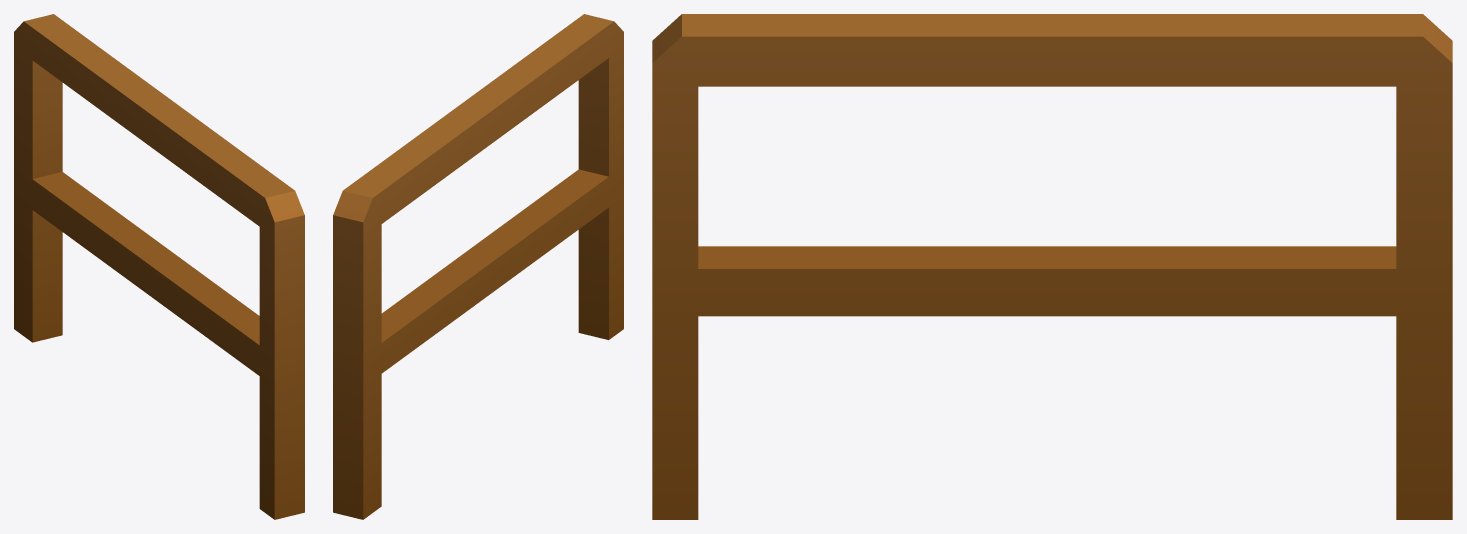
File: Fence.fbx
3 views of the same model, side by side, from view 1: azimuth 30°, elevation 25°; view 2: azimuth 150°, elevation 25°; view 3: azimuth 270°, elevation 25° (orthographic). The views are drawn at different scales.
Parts seen in each view (by area): view 1: Fence; view 2: Fence; view 3: Fence.
Boxes of the visible parts, left/top/right/bottom form: Fence: left=14, top=14, right=304, bottom=519; Fence: left=333, top=14, right=623, bottom=519; Fence: left=652, top=14, right=1452, bottom=519.
Bounding box in the file's own units: 10 × 100 × 150.
